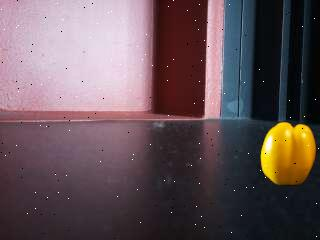Capsicum: (258, 120, 316, 187)
